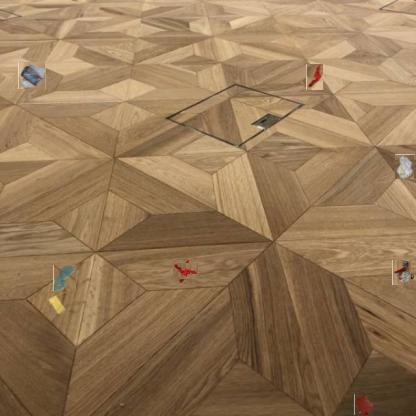dirty: (18, 62, 46, 89), (391, 261, 413, 284), (396, 154, 416, 179), (45, 292, 67, 314), (175, 260, 196, 282), (306, 64, 323, 90)
liquid: (53, 265, 76, 291), (354, 394, 373, 416)
